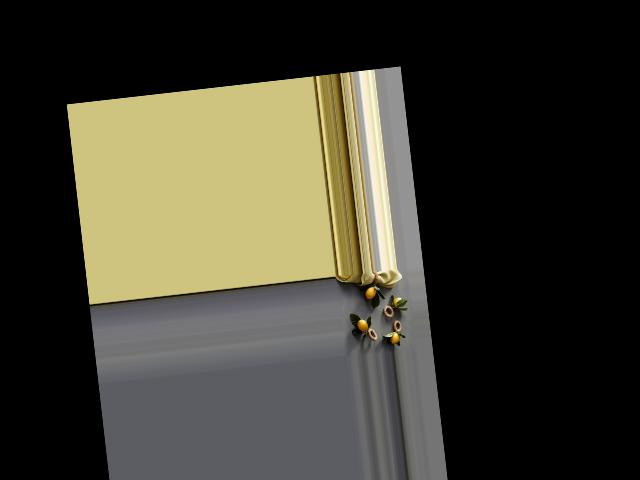lemon: (386, 330, 400, 348)
